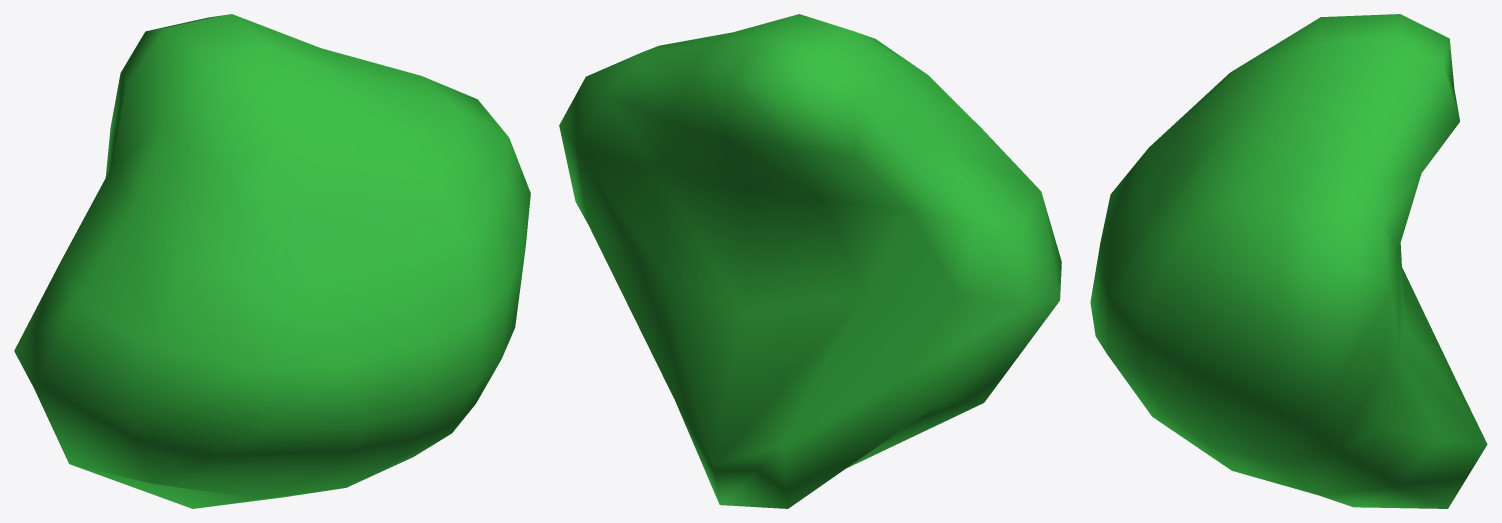
Rendered from Tree Top 2.fbx.
The picture shows the model from 3 angles, left to right: view 1: azimuth 30°, elevation 25°; view 2: azimuth 150°, elevation 25°; view 3: azimuth 270°, elevation 25°; orthographic projection. The views are drawn at different scales.
Parts seen in each view (by area): view 1: Group26079; view 2: Group26079; view 3: Group26079.
Part boxes in pixels (box(x1,y1,x2,y2)): Group26079: box(14, 14, 530, 508); Group26079: box(559, 14, 1061, 508); Group26079: box(1090, 14, 1487, 508).
Size of the model in its own units: 1.14 by 1.06 by 0.8219.
1 material, 1 textured.
